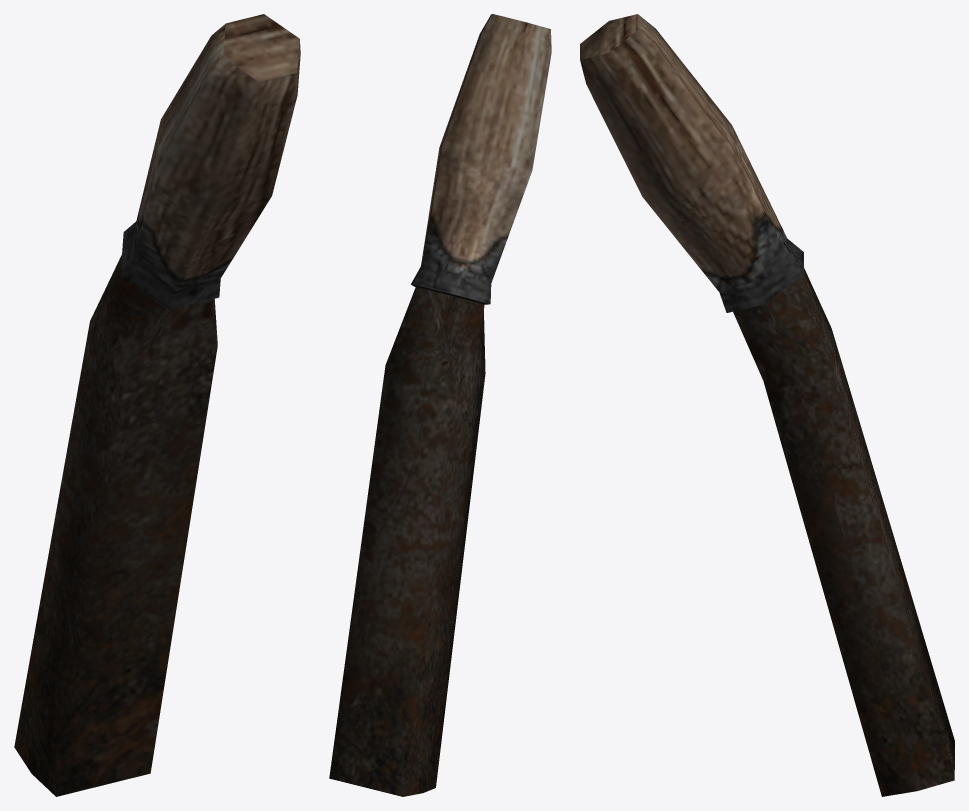
The model's file is control_room_piston_lever.dae.
The picture shows the model from 3 angles, left to right: view 1: azimuth 30°, elevation 25°; view 2: azimuth 150°, elevation 25°; view 3: azimuth 270°, elevation 25°; orthographic projection. The views are drawn at different scales.
Visible parts, largest first — view 1: piston_lever, polySurface7; view 2: piston_lever, polySurface7; view 3: piston_lever, polySurface7.
Boxes of the visible parts, left/top/right/bottom form: piston_lever: left=14, top=255, right=217, bottom=796; polySurface7: left=120, top=14, right=300, bottom=309; piston_lever: left=329, top=287, right=485, bottom=796; polySurface7: left=411, top=14, right=551, bottom=304; piston_lever: left=733, top=268, right=954, bottom=796; polySurface7: left=580, top=14, right=803, bottom=312.
Bounding box in the file's own units: 0.0938 × 0.6547 × 0.2942.
